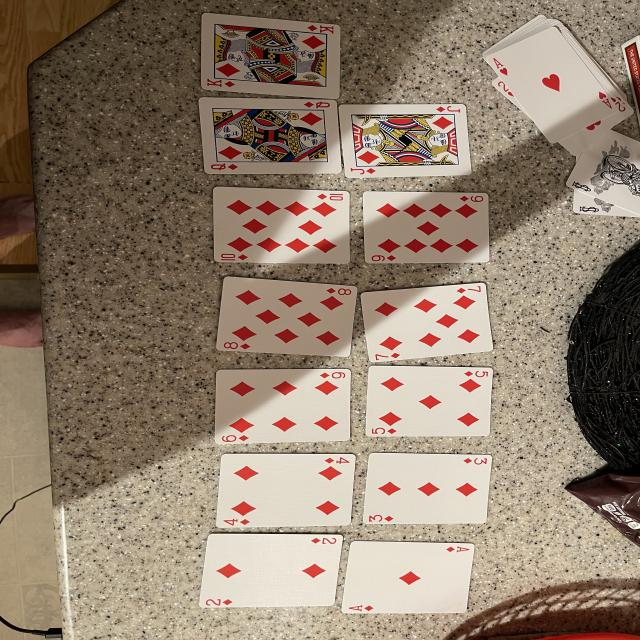10 of diamonds: (213, 186, 350, 264)
2 of diamonds: (200, 534, 343, 608)
3 of diamonds: (363, 452, 492, 524)
4 of diamonds: (217, 454, 355, 528)
5 of diamonds: (365, 365, 493, 436)
6 of diamonds: (215, 369, 352, 444)
7 of diamonds: (360, 282, 493, 362)
8 of diamonds: (217, 276, 357, 356)
9 of diamonds: (363, 191, 490, 264)
Ace of diamonds: (342, 541, 475, 614)
Ace of hearts: (488, 27, 619, 144)
Jack of diamonds: (338, 104, 472, 178)
Joker: (567, 130, 640, 215), (573, 190, 640, 218)
King of diamonds: (202, 14, 340, 99)
Queen of diamonds: (198, 98, 342, 174)
